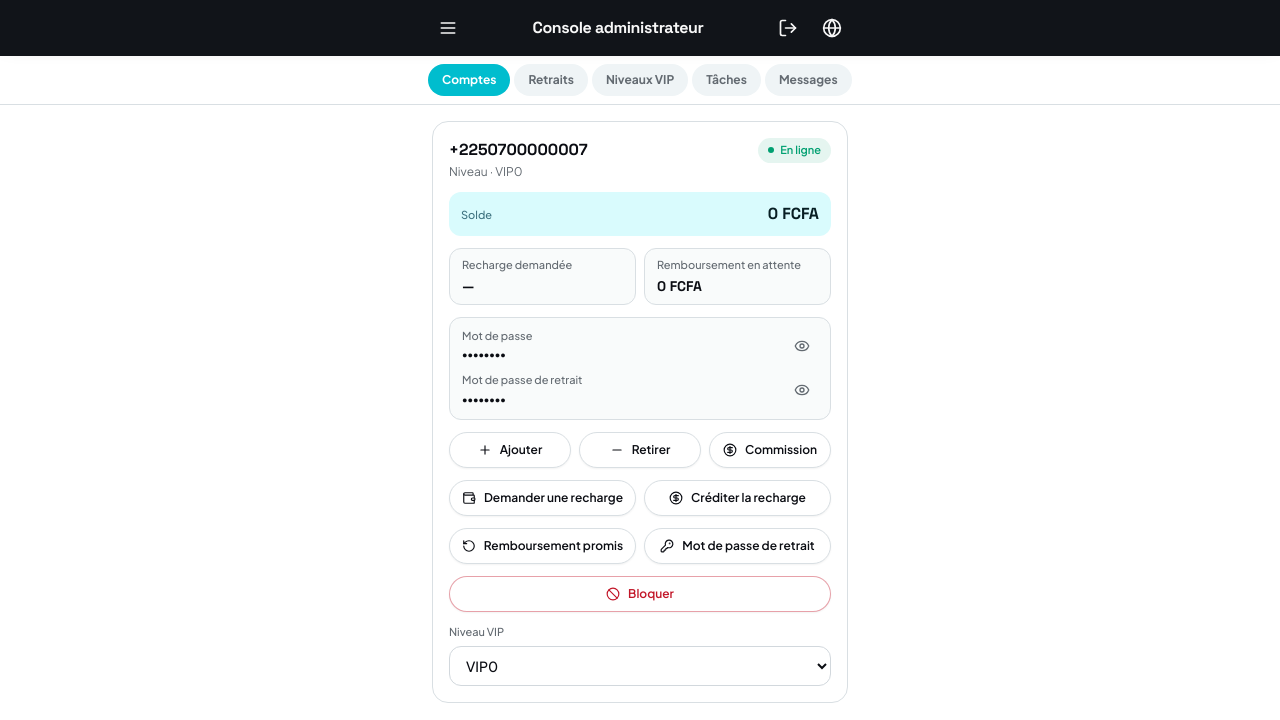
Test: AdminPage navigation and tasks › assigns a task to a specific account
Click the button with test id "admin.tab.tasks": (727, 80) [692, 64, 761, 96]
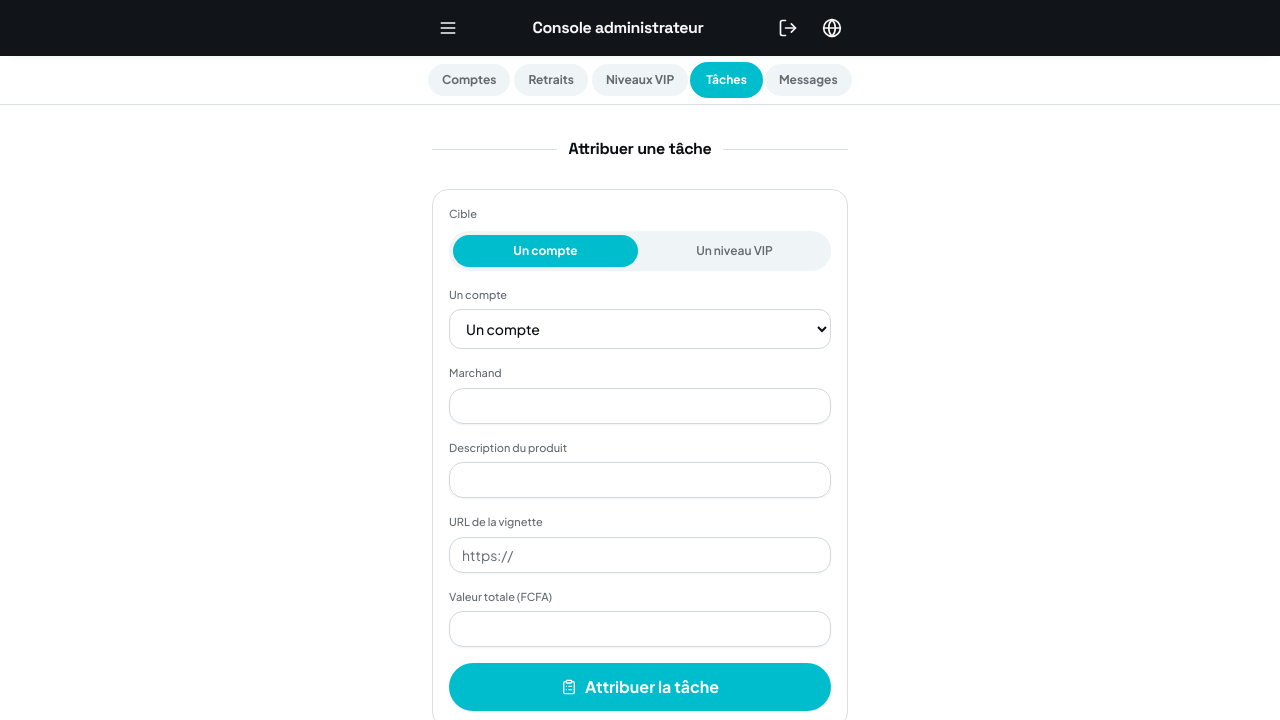
Select "+2250700000007 · VIP0" in the dropdown with test id "admin.task_user_select": (640, 329) [449, 309, 831, 349]
In the field with test id "admin.task_merchant_input": (640, 406) [449, 388, 831, 424], type "Marchand Test"
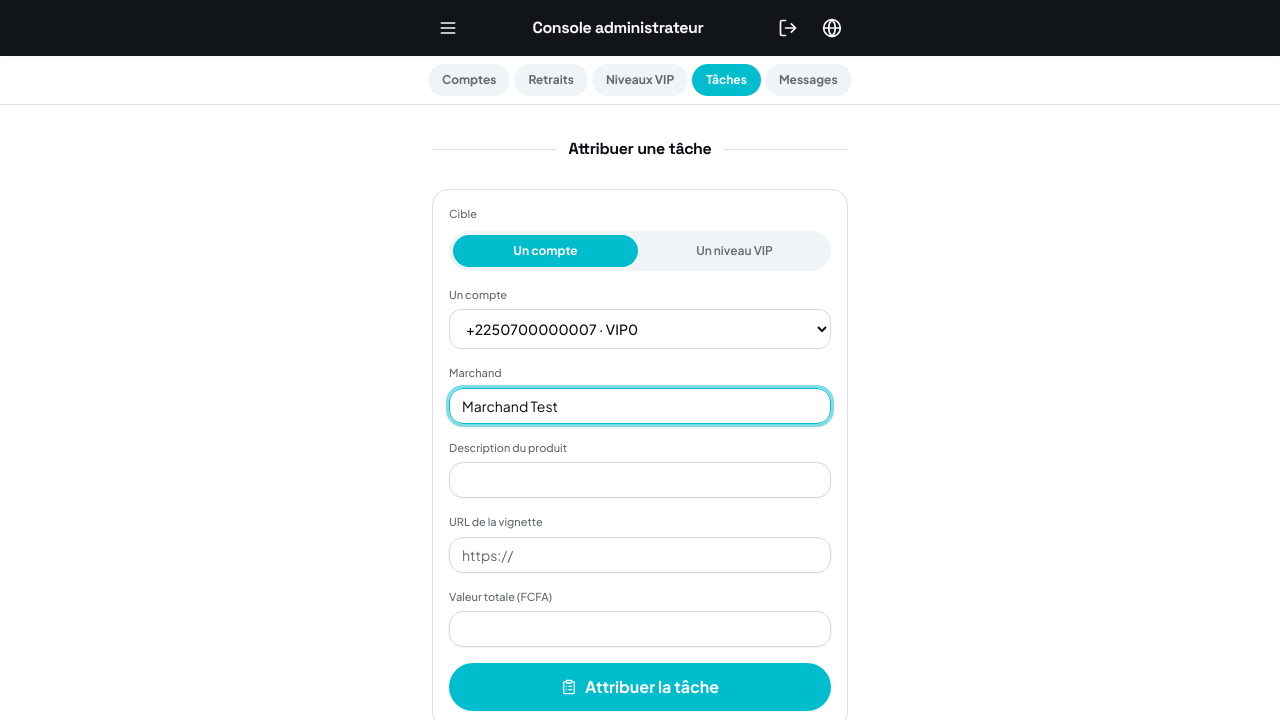
In the field with test id "admin.task_product_input": (640, 480) [449, 462, 831, 498], type "Produit Test"
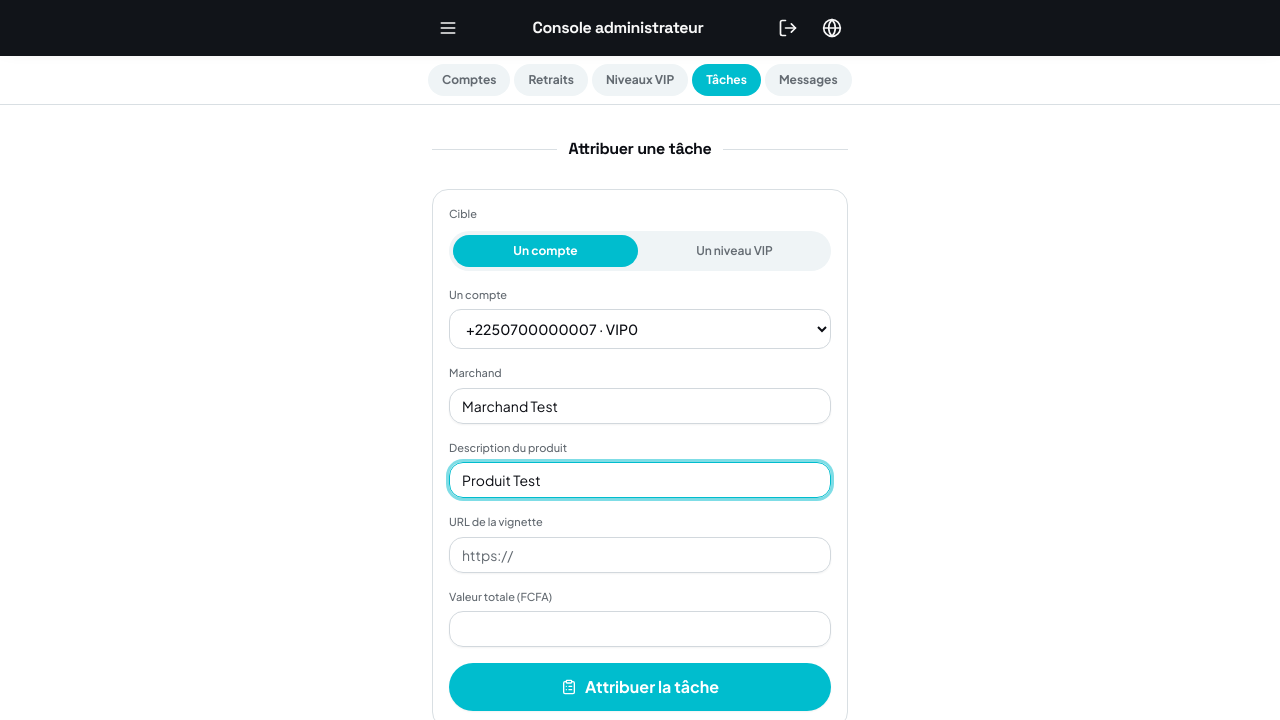
In the field with test id "admin.task_thumbnail_input": (640, 554) [449, 536, 831, 572], type "https://example.test/thumb.png"
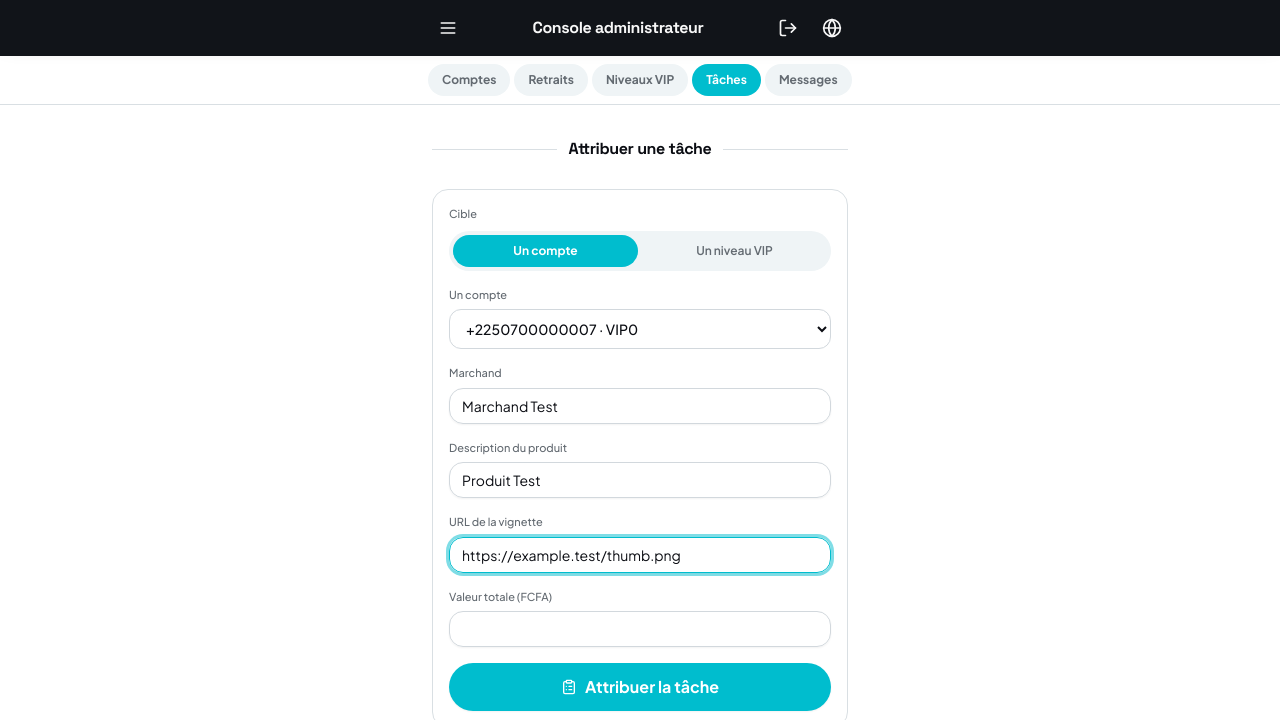
In the field with test id "admin.task_value_input": (640, 629) [449, 611, 831, 647], type "5000"
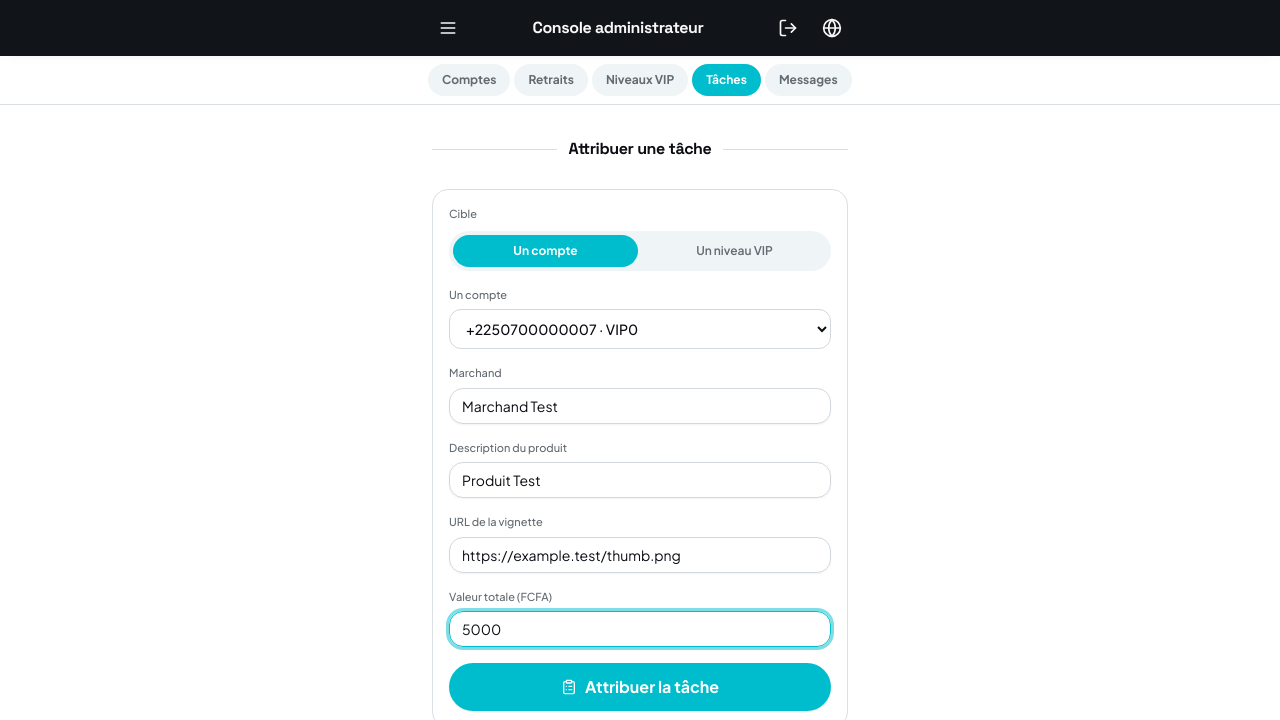
Click the button with test id "admin.assign_task_button": (640, 687) [449, 663, 831, 711]
(page scrolled)
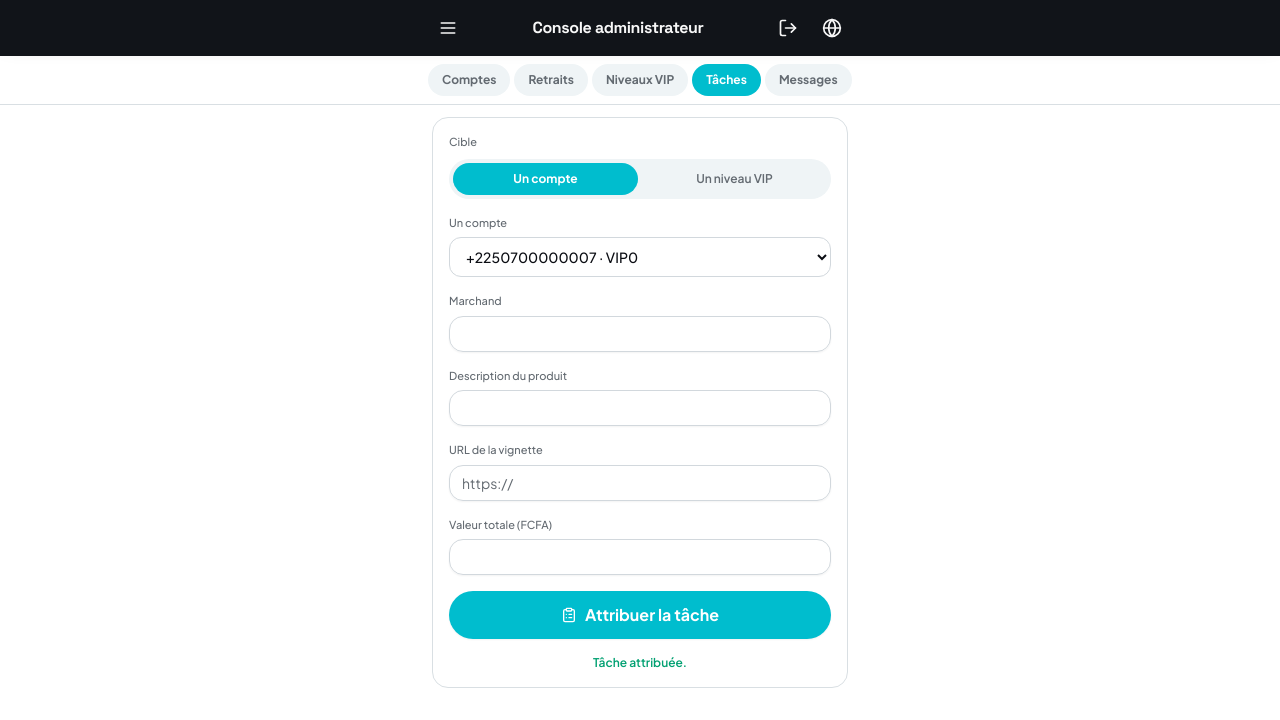
expect the text "Tâche attribuée." is shown: met, box [593, 655, 687, 670]
